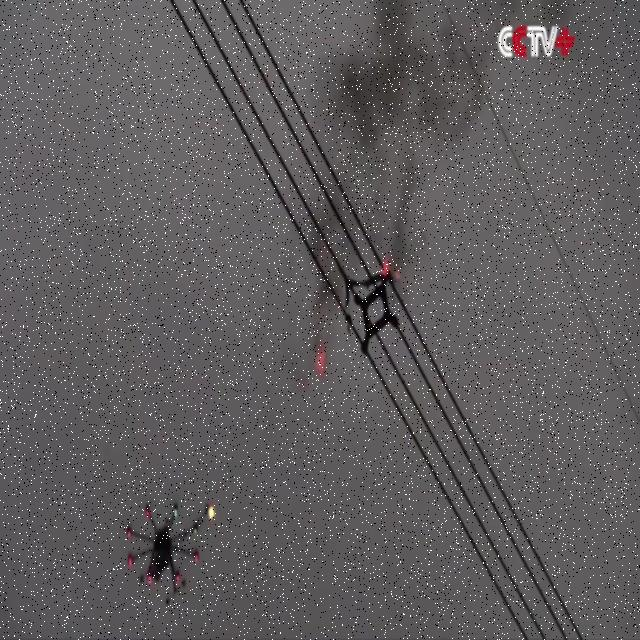UAV: (127, 502, 217, 606)
